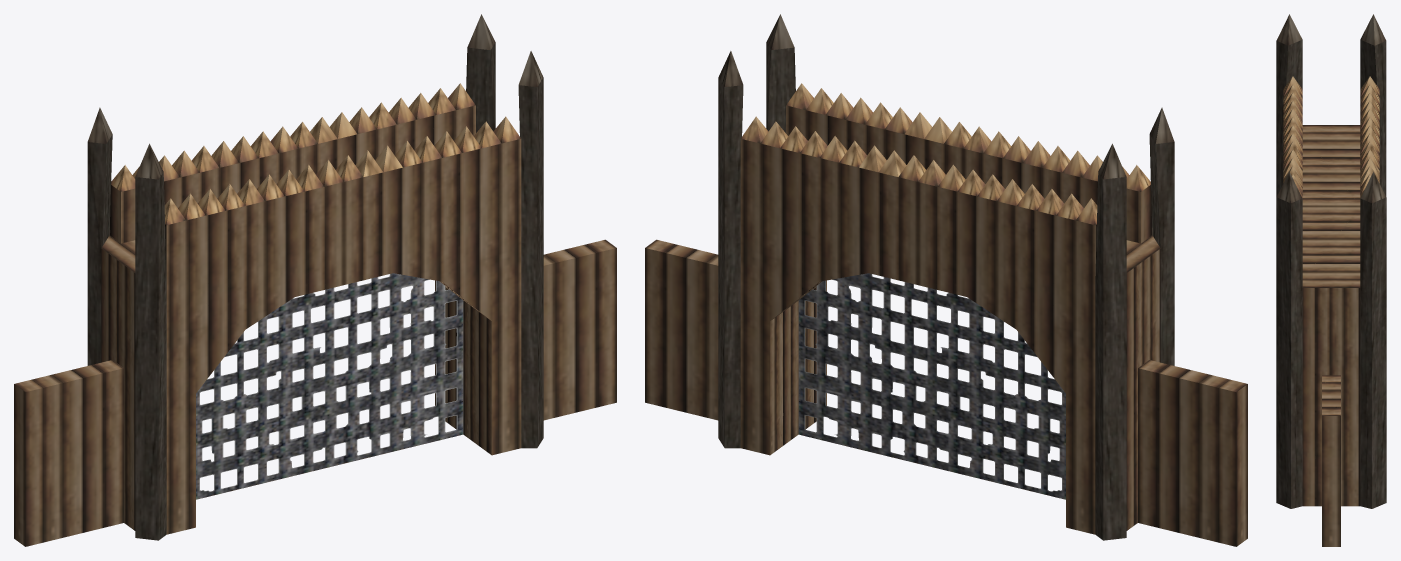
The model's file is wall_gatehouse.DAE.
The picture shows the model from 3 angles, left to right: view 1: azimuth 30°, elevation 25°; view 2: azimuth 150°, elevation 25°; view 3: azimuth 270°, elevation 25°; orthographic projection. The views are drawn at different scales.
Visible parts, largest first — view 1: Box004; view 2: Box004; view 3: Box004.
Boxes of the visible parts, x1,y1,x2,y2 form: Box004: (14, 14, 616, 546); Box004: (645, 14, 1247, 546); Box004: (1276, 14, 1386, 546).
Bounding box in the file's own units: 60 × 11.41 × 38.
